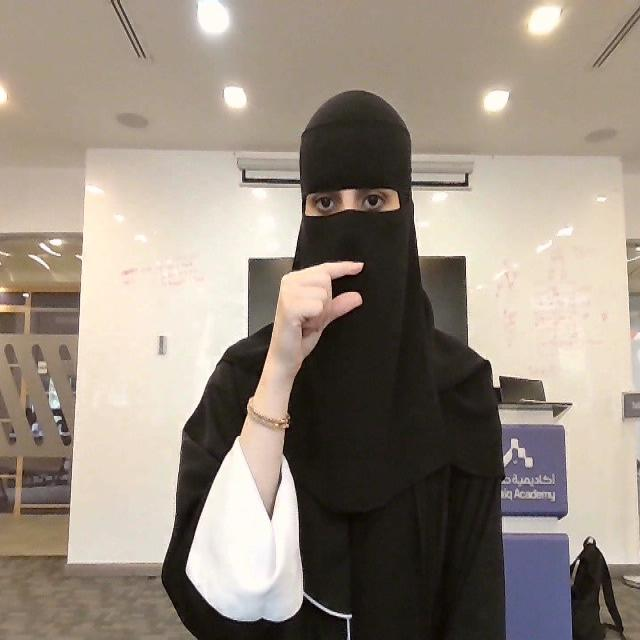fasting: (267, 257, 364, 372)
